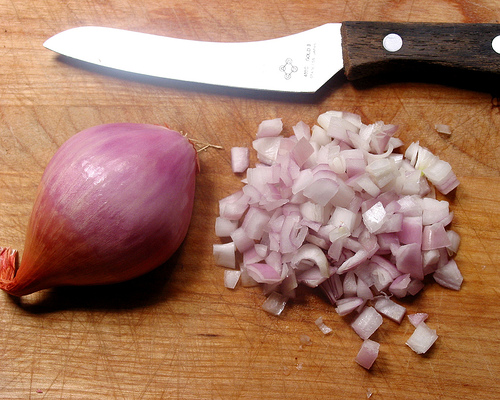onion: (1, 122, 225, 298)
